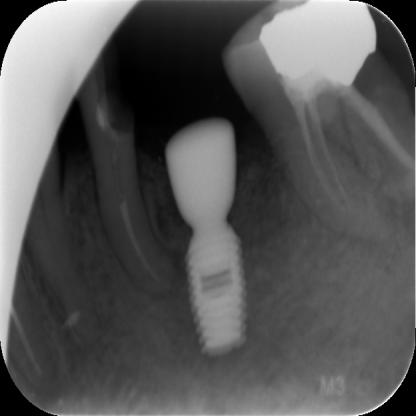Bicon: (181, 224, 250, 354)
